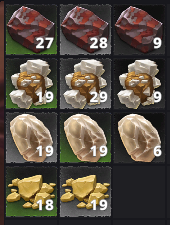cinnabar mineral: (6, 4, 56, 53), (113, 5, 164, 52), (61, 5, 110, 53)
dolomite mineral: (6, 58, 56, 107), (61, 58, 111, 107), (115, 59, 164, 108)
halite mineral: (7, 112, 57, 162), (61, 113, 110, 161), (114, 114, 164, 161)
sulphur mineral: (7, 167, 57, 216), (61, 167, 110, 216)
